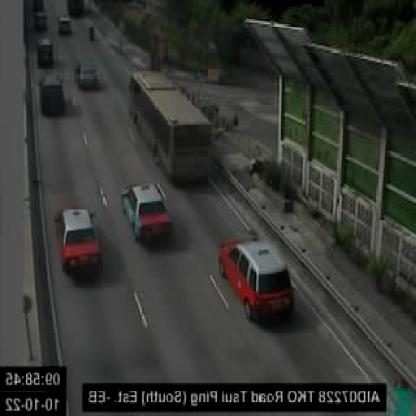Bus: (131, 72, 211, 185)
Car: (217, 235, 294, 320), (55, 204, 104, 278), (123, 182, 174, 246), (40, 74, 65, 116), (75, 60, 99, 90), (36, 41, 52, 68), (58, 14, 72, 34)
